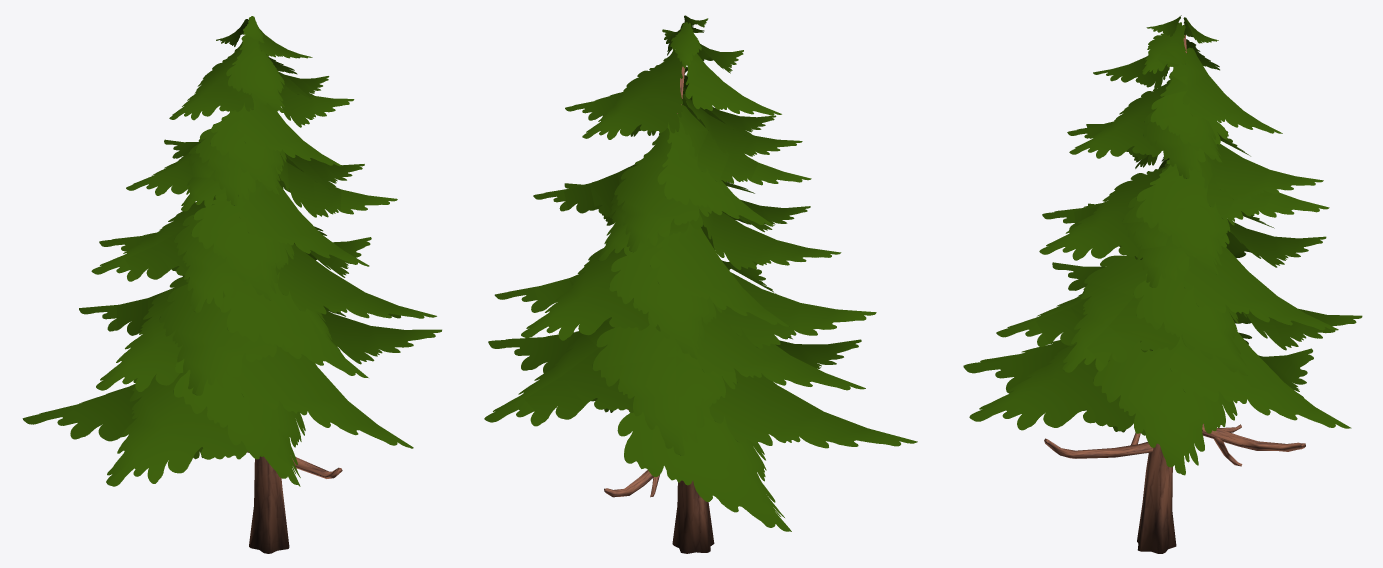
The model's file is Pine_2.gltf.
The picture shows the model from 3 angles, left to right: view 1: azimuth 30°, elevation 25°; view 2: azimuth 150°, elevation 25°; view 3: azimuth 270°, elevation 25°; orthographic projection. The views are drawn at different scales.
Visible parts, largest first — view 1: Pine_2_Foliage, Pine_2_Bark; view 2: Pine_2_Foliage, Pine_2_Bark; view 3: Pine_2_Foliage, Pine_2_Bark.
Boxes of the visible parts, x1,y1,x2,y2 form: Pine_2_Foliage: (22,16,441,486); Pine_2_Bark: (247,451,342,553); Pine_2_Foliage: (484,15,917,531); Pine_2_Bark: (604,66,714,553); Pine_2_Foliage: (963,15,1362,475); Pine_2_Bark: (1044,35,1305,553).
Size of the model in its own units: 19.41 by 25 by 17.7.
2 materials, 2 textured.
